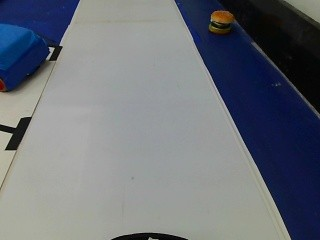burger: (205, 1, 240, 37)
